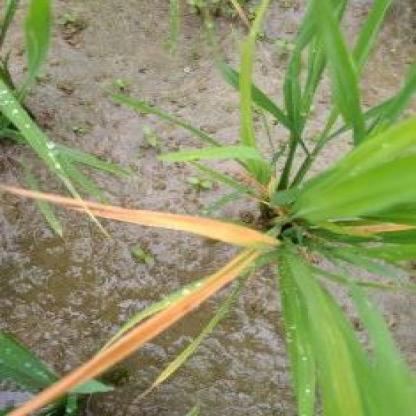Tungro: (14, 250, 266, 416), (14, 194, 287, 253)
